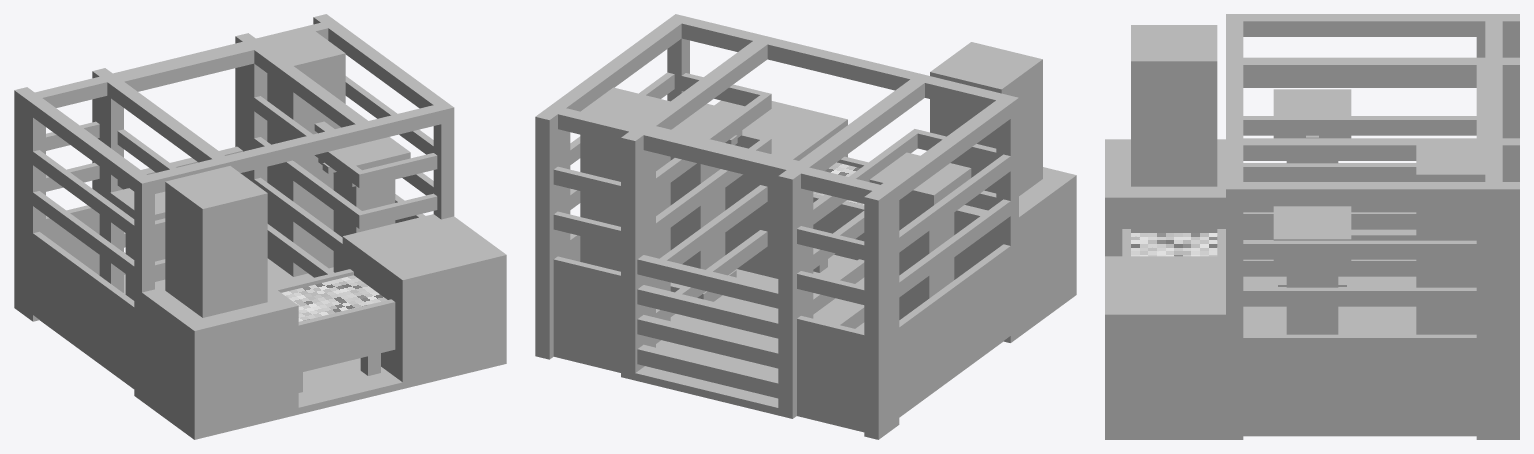
Rendered from animal_pen.obj.
3 views of the same model, side by side, from view 1: azimuth 30°, elevation 25°; view 2: azimuth 150°, elevation 25°; view 3: azimuth 270°, elevation 25° (orthographic). The views are drawn at different scales.
Visible parts, largest first — view 1: frame, feed; view 2: frame, gate; view 3: frame, feed.
Part boxes in pixels (x1,y1,x2,y2): frame: [14, 14, 506, 439]; feed: [281, 275, 387, 321]; frame: [535, 14, 1076, 439]; gate: [637, 255, 778, 398]; frame: [1105, 14, 1519, 439]; feed: [1131, 233, 1217, 256].
Size of the model in its own units: 3 by 2 by 3.
